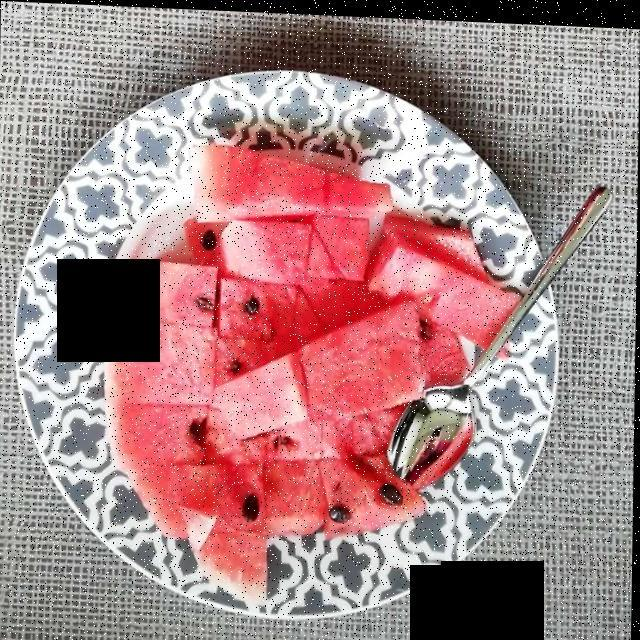watermelon: (110, 144, 518, 596)
